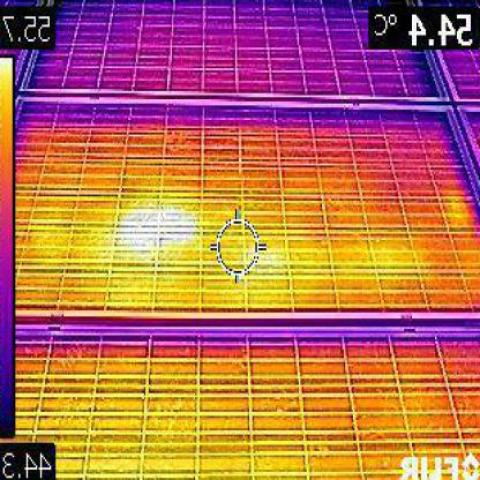fault: (114, 204, 191, 255)
